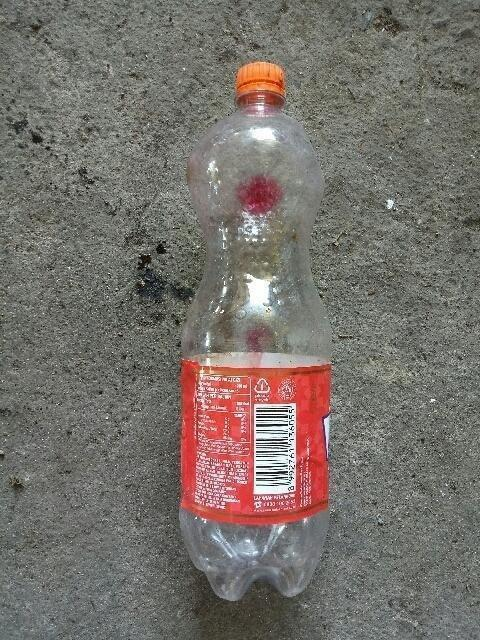bottle-plastic: (180, 62, 333, 603)
